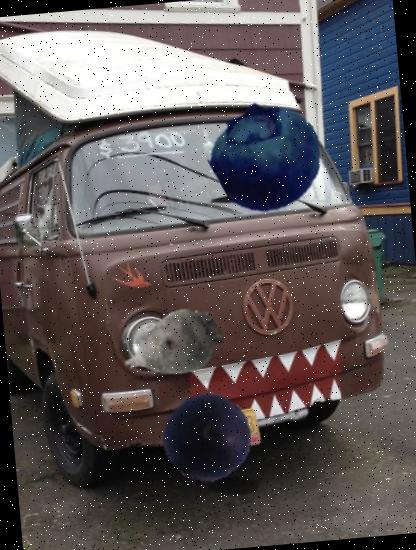Beetroot: (116, 292, 229, 405)
Huckleberry: (209, 98, 326, 216)
Plum: (160, 390, 257, 486)
